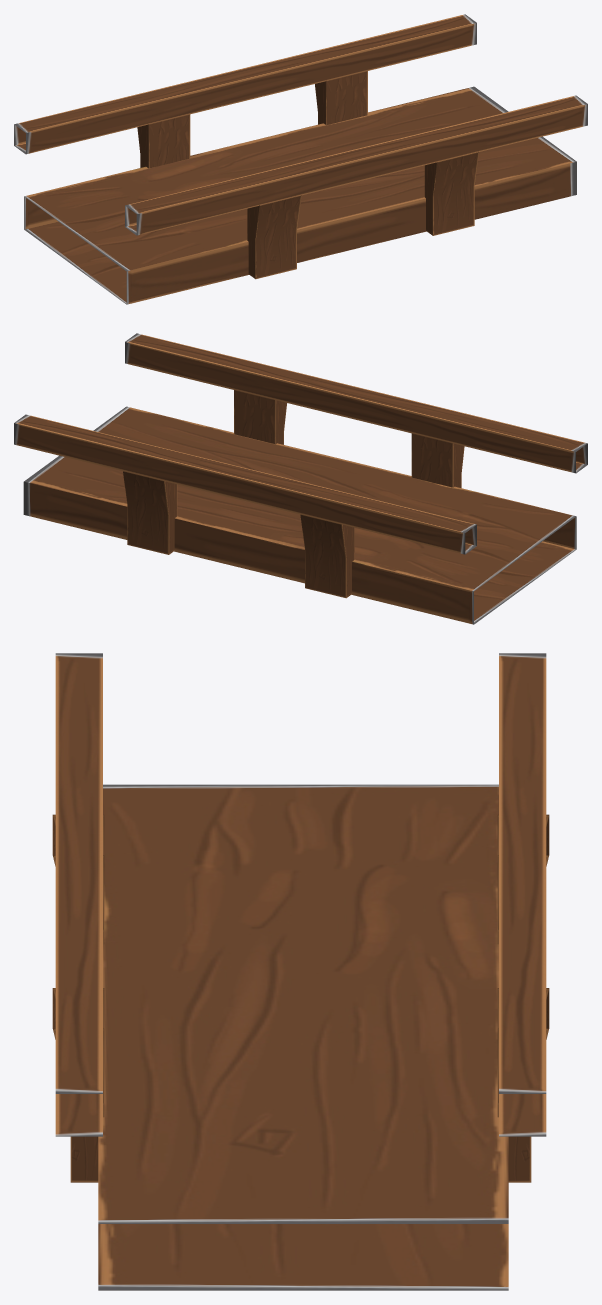
File: brug middle.FBX
The picture shows the model from 3 angles, top to bottom: view 1: azimuth 30°, elevation 25°; view 2: azimuth 150°, elevation 25°; view 3: azimuth 270°, elevation 25°; orthographic projection. The views are drawn at different scales.
Visible parts, largest first — view 1: Box422; view 2: Box422; view 3: Box422.
Part boxes in pixels (<box>): Box422: <box>14,14,587,304</box>; Box422: <box>14,333,587,624</box>; Box422: <box>52,653,549,1290</box>.
Size of the model in its own units: 139 by 29.05 by 66.32.
